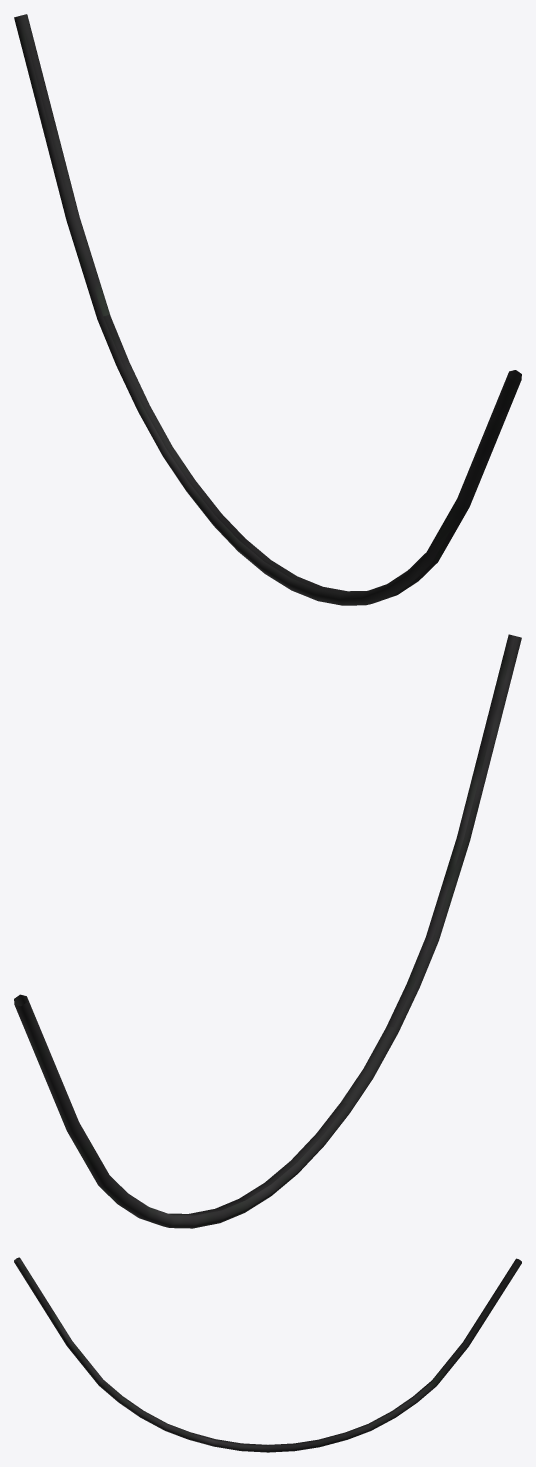
File: electrical_hanging_long.dae
3 views of the same model, one above another, from view 1: azimuth 30°, elevation 25°; view 2: azimuth 150°, elevation 25°; view 3: azimuth 270°, elevation 25° (orthographic). The views are drawn at different scales.
Visible parts, largest first — view 1: hanging_long; view 2: hanging_long; view 3: hanging_long.
Part boxes in pixels (x1,y1,x2,y2): hanging_long: [14, 14, 521, 605]; hanging_long: [14, 634, 521, 1228]; hanging_long: [14, 1257, 521, 1452].
Bounding box in the file's own units: 0.0169 × 0.4629 × 1.1.
